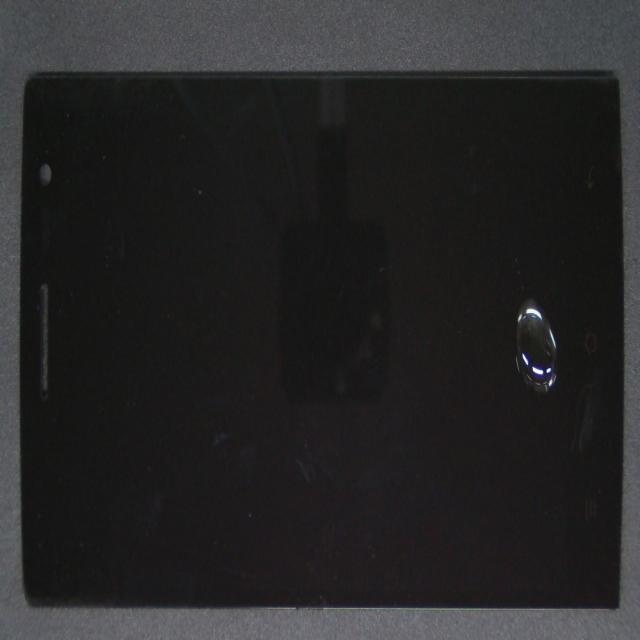oil: (300, 176, 640, 472)
